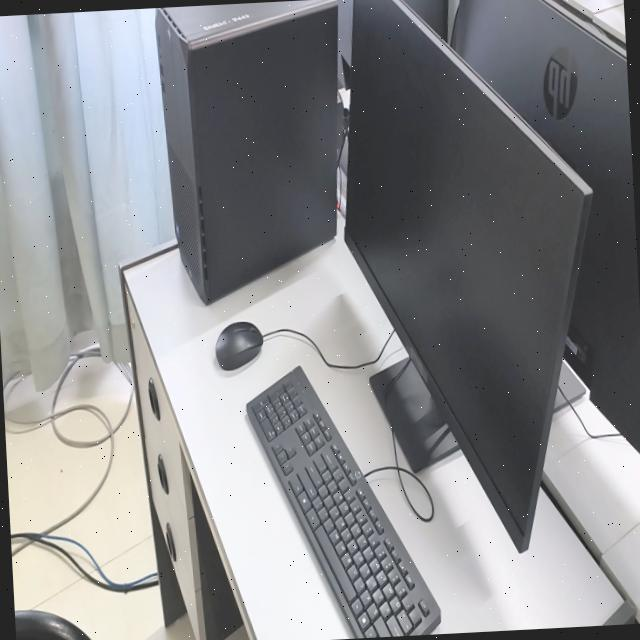Chair: (15, 610, 92, 640)
Cpu: (156, 0, 342, 304)
Keyboard: (246, 367, 441, 639)
Monitor: (345, 0, 592, 552), (451, 0, 640, 454), (402, 0, 448, 39)
Mouse: (216, 323, 263, 370)
